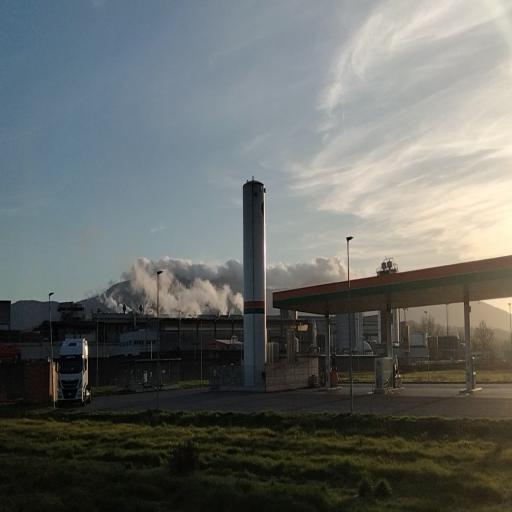leakage: (95, 249, 247, 322)
